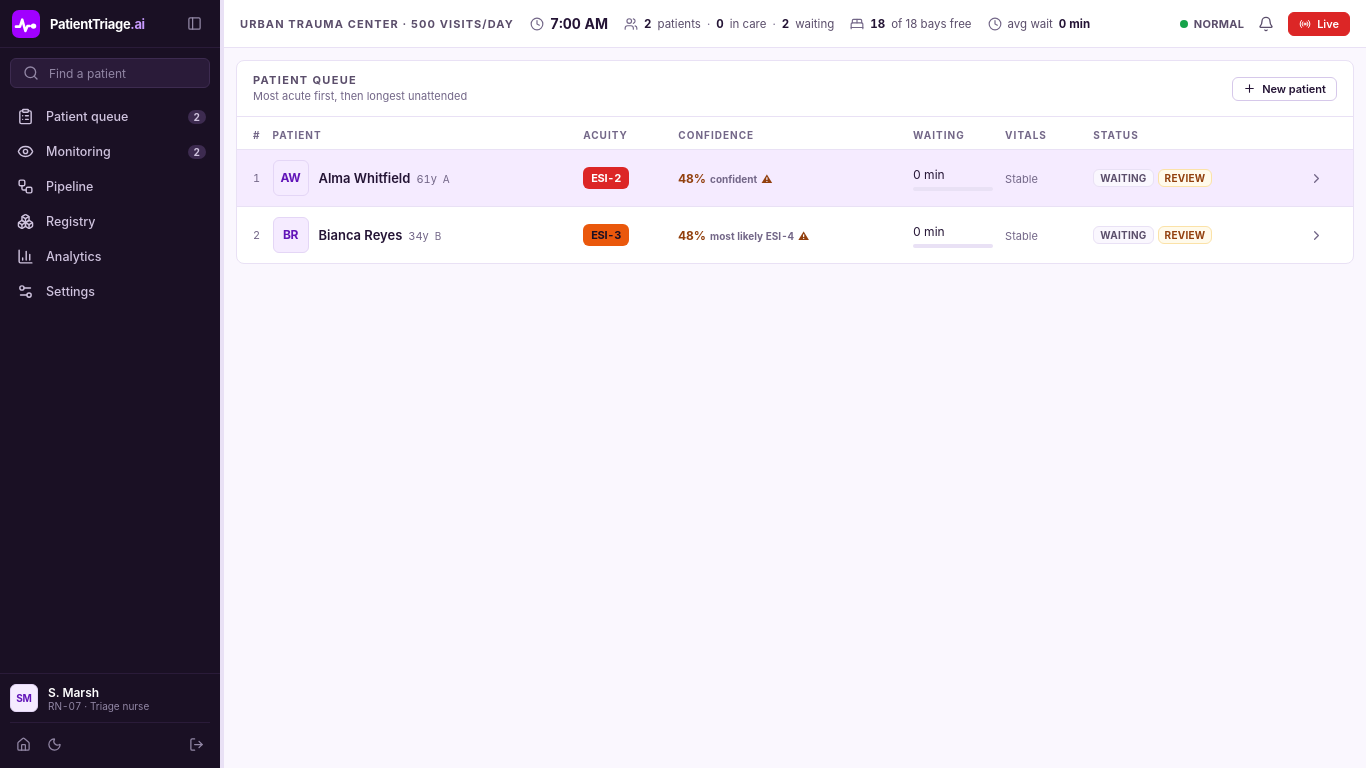
Test: when Path B does not return › says the path did not return, not that it was queued
The width and height of the screenshot is (1366, 768).
Step 1. Click the text "Alma Whitfield" → (384,178), box [318,170,450,186]
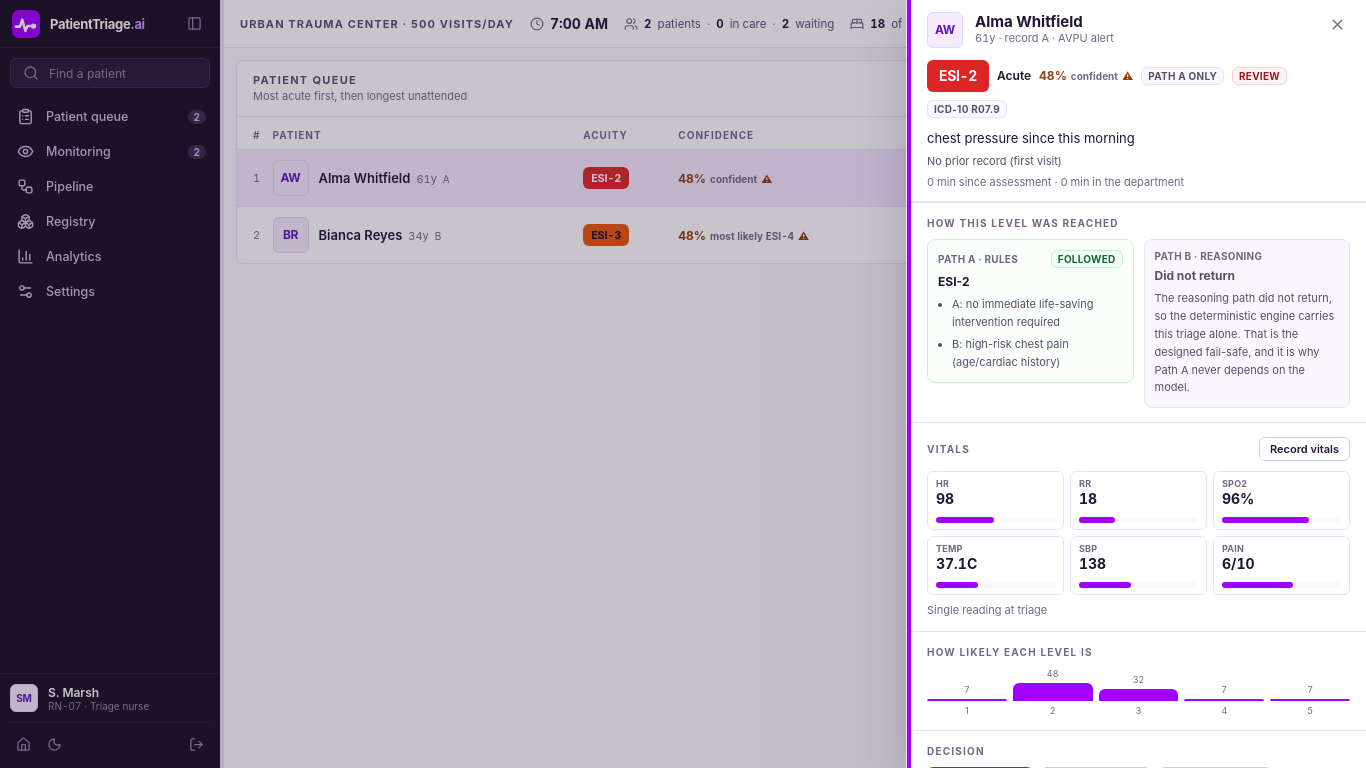
Expected: the dialog named "triage recommendation" does not show "queued", [906,0,1365,767]
Now the dialog named "triage recommendation" shows "did not return", box [1154,268,1235,283]
